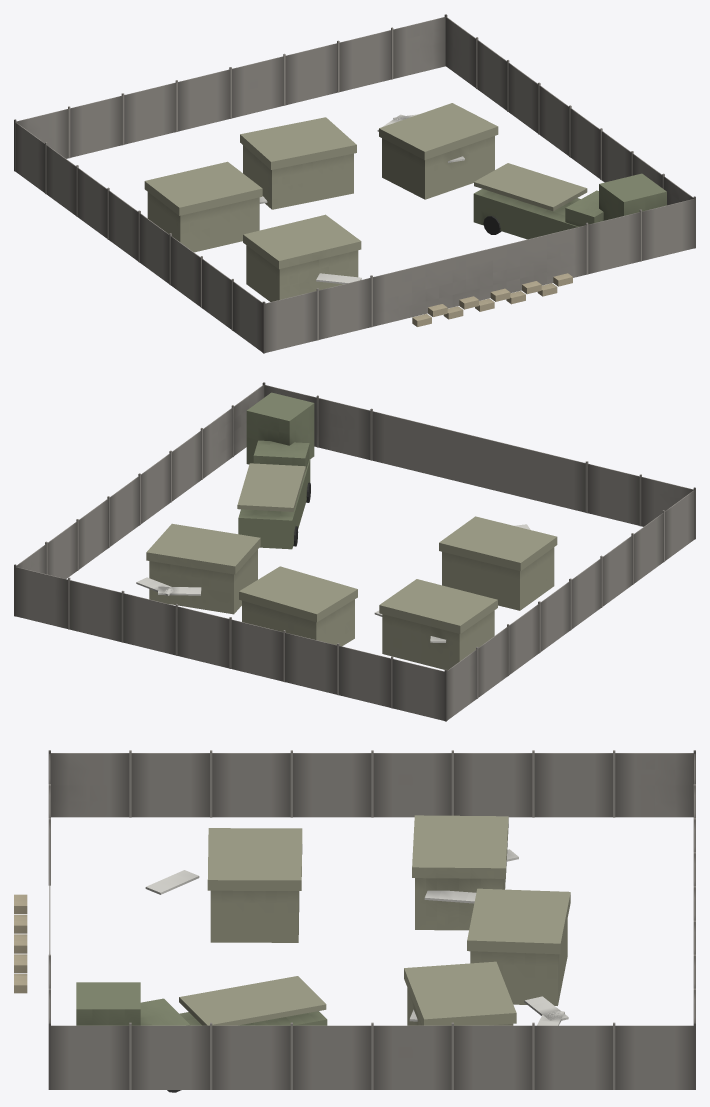
Rendered from quarentena.glb.
3 renders of one model, top to bottom at view 1: azimuth 30°, elevation 25°; view 2: azimuth 150°, elevation 25°; view 3: azimuth 270°, elevation 25°, orthographic. The views are drawn at different scales.
Parts seen in each view (by area): view 1: quarentena_tela0, quarentena_tela2, quarentena_tela3, quarentena_tela1, quarentena_tenda2, quarentena_tenda1, quarentena_tenda0, quarentena_tenda3, quarentena_caminhao, quarentena_guarita; view 2: quarentena_tela2, quarentena_tela0, quarentena_tela3, quarentena_tela1, quarentena_tenda3, quarentena_tenda0, quarentena_tenda2, quarentena_tenda1, quarentena_caminhao, quarentena_guarita; view 3: quarentena_tela1, quarentena_tela3, quarentena_tenda3, quarentena_tenda1, quarentena_tenda0, quarentena_caminhao, quarentena_tenda2, quarentena_guarita, quarentena_maca1, quarentena_maca4, quarentena_maca3.
Boxes of the visible parts, bbox=[...] form: quarentena_tela0: bbox=[265, 199, 694, 352]; quarentena_tela2: bbox=[16, 17, 445, 158]; quarentena_tela3: bbox=[15, 122, 262, 352]; quarentena_tela1: bbox=[446, 17, 693, 205]; quarentena_tenda2: bbox=[379, 103, 498, 199]; quarentena_tenda1: bbox=[240, 117, 356, 209]; quarentena_tenda0: bbox=[144, 161, 262, 252]; quarentena_tenda3: bbox=[243, 214, 361, 301]; quarentena_caminhao: bbox=[473, 163, 603, 239]; quarentena_guarita: bbox=[599, 173, 666, 220]; quarentena_tela2: bbox=[15, 567, 444, 720]; quarentena_tela0: bbox=[264, 385, 693, 526]; quarentena_tela3: bbox=[447, 490, 694, 720]; quarentena_tela1: bbox=[16, 385, 263, 578]; quarentena_tenda3: bbox=[439, 516, 557, 610]; quarentena_tenda0: bbox=[379, 579, 497, 670]; quarentena_tenda2: bbox=[146, 523, 260, 614]; quarentena_tenda1: bbox=[239, 566, 357, 646]; quarentena_caminhao: bbox=[237, 440, 310, 549]; quarentena_guarita: bbox=[246, 392, 314, 464]; quarentena_tela1: bbox=[51, 1025, 693, 1089]; quarentena_tela3: bbox=[51, 753, 693, 817]; quarentena_tenda3: bbox=[207, 828, 302, 942]; quarentena_tenda1: bbox=[467, 888, 570, 1005]; quarentena_tenda0: bbox=[412, 815, 508, 930]; quarentena_caminhao: bbox=[140, 976, 327, 1092]; quarentena_tenda2: bbox=[404, 961, 516, 1025]; quarentena_guarita: bbox=[76, 982, 140, 1025]; quarentena_maca1: bbox=[145, 870, 199, 894]; quarentena_maca4: bbox=[424, 890, 476, 903]; quarentena_maca3: bbox=[524, 996, 568, 1020].
Size of what is drawn, in the model's own units: 22.08 by 3.6 by 23.26.
